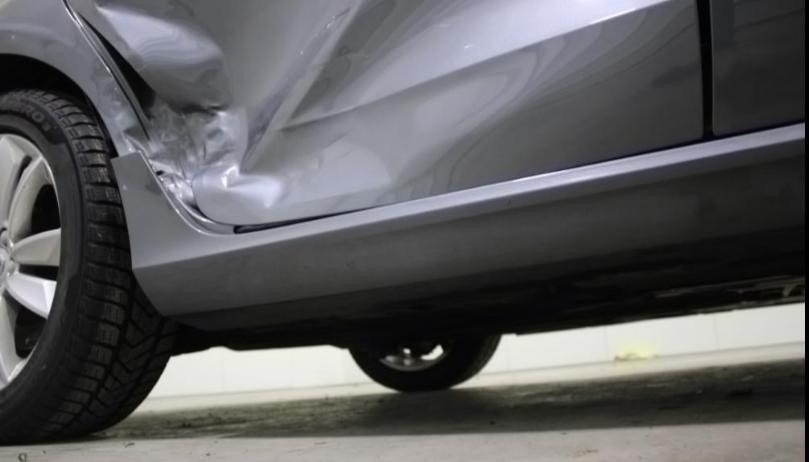Back-door: (64, 0, 706, 228)
Back-wheel: (0, 89, 180, 446), (348, 334, 502, 391)
Front-door: (711, 0, 808, 138)
Quarter-panel: (0, 0, 152, 157)
Rocker-panel: (109, 122, 808, 351)
